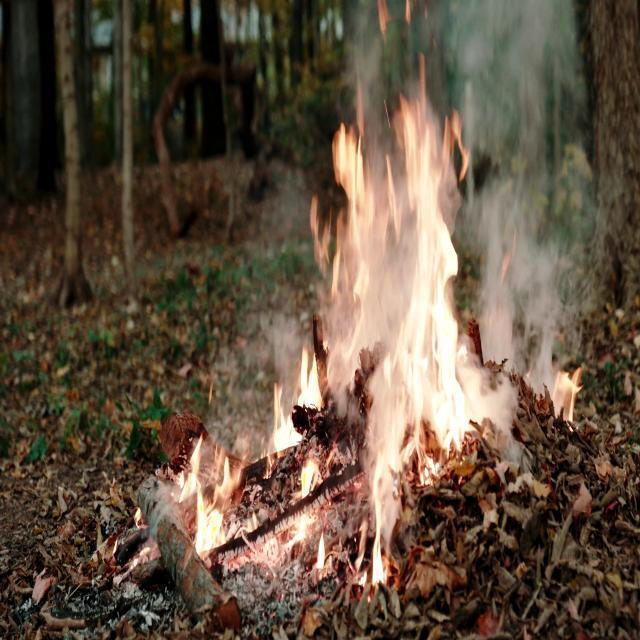Fire: (302, 77, 514, 598), (172, 344, 350, 590), (546, 356, 582, 436), (572, 428, 575, 431)
Smoke: (459, 0, 639, 425)
